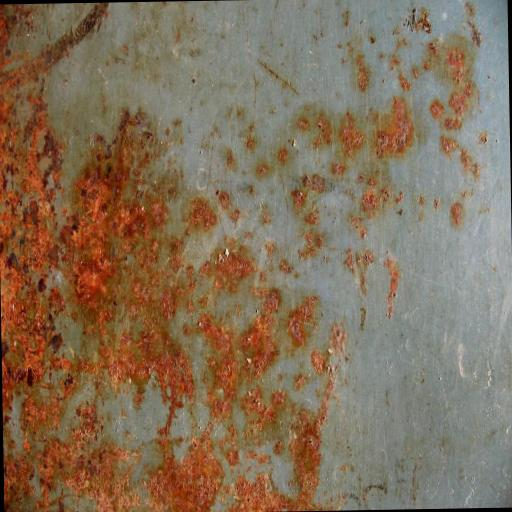segmentation: (0, 0, 512, 512)
